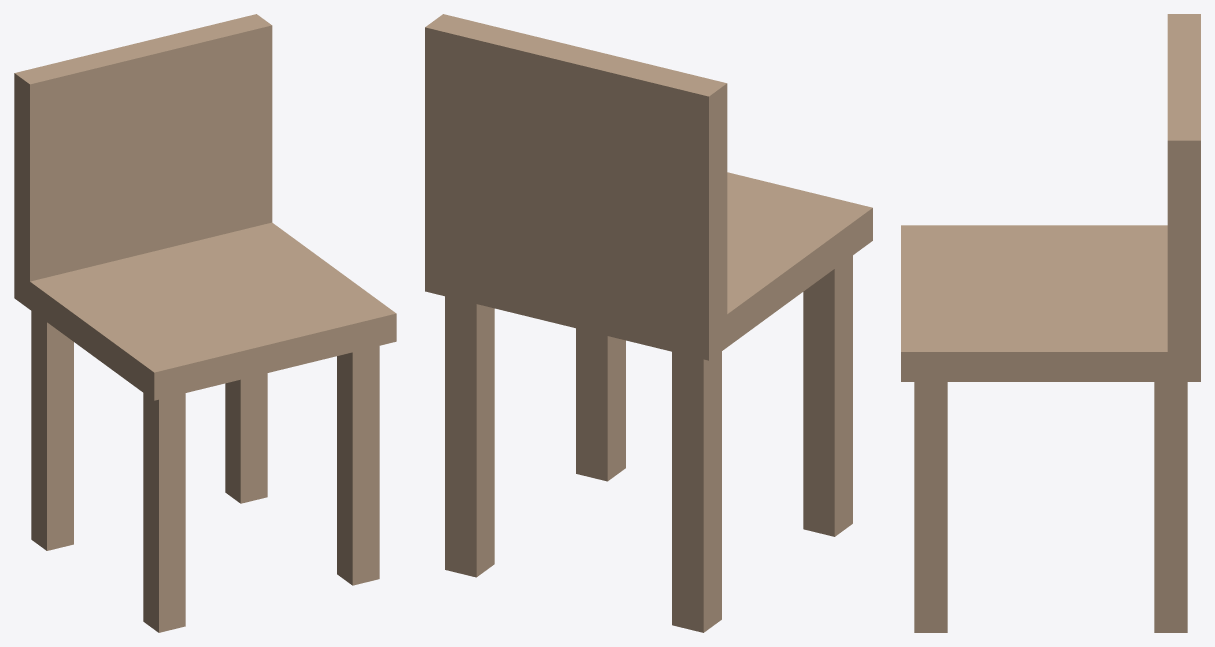
The model's file is chair.glb.
The picture shows the model from 3 angles, left to right: view 1: azimuth 30°, elevation 25°; view 2: azimuth 150°, elevation 25°; view 3: azimuth 270°, elevation 25°; orthographic projection. The views are drawn at different scales.
Parts seen in each view (by area): view 1: part_1, part_0, part_3, part_2, part_5, part_4; view 2: part_1, part_0, part_5, part_4, part_3, part_2; view 3: part_0, part_1, part_2, part_4.
Part boxes in pixels (x1,y1,x2,y2): part_1: (14,14,272,281); part_0: (14,222,396,400); part_3: (143,393,185,632); part_2: (337,346,379,585); part_5: (31,311,73,550); part_4: (225,373,267,503); part_1: (425,14,727,327); part_0: (425,172,872,360); part_5: (672,351,721,632); part_4: (445,296,494,577); part_3: (803,255,852,536); part_2: (576,328,625,481); part_0: (901,225,1200,381); part_1: (1167,14,1200,351); part_2: (914,382,947,632); part_4: (1154,382,1187,632).
Bounding box in the file's own units: 0.45 × 0.825 × 0.45.
